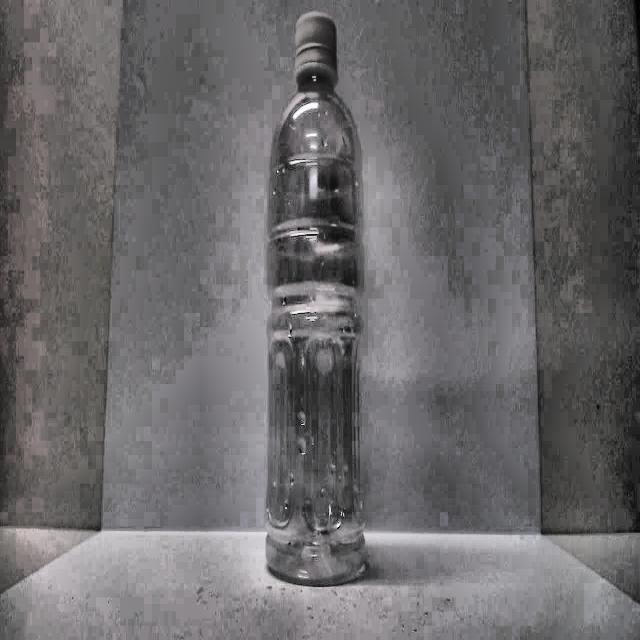Bottles: (260, 0, 399, 598)
